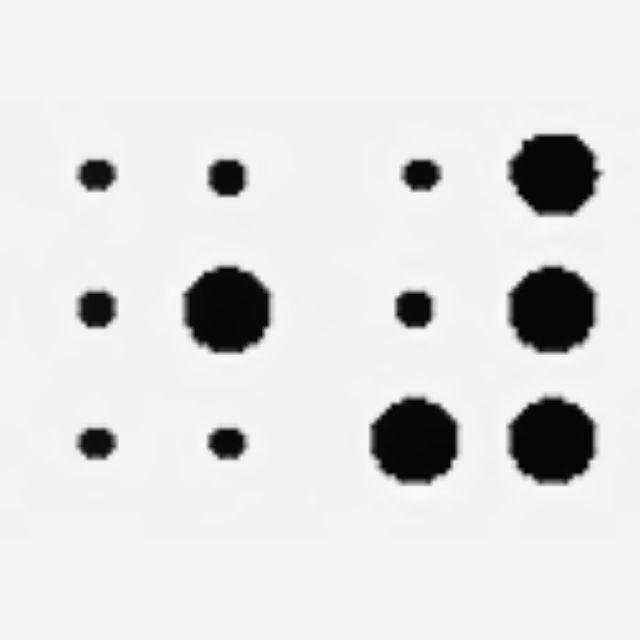bulaklak: (370, 132, 596, 481)
dot_5: (43, 133, 269, 482)
